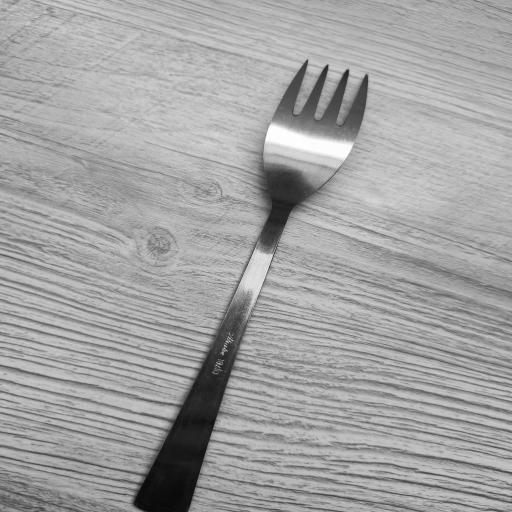fork: (133, 55, 372, 512)
